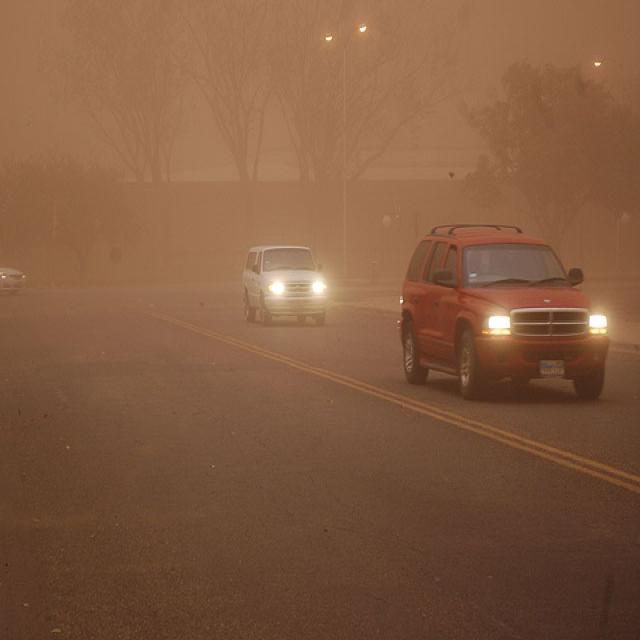car: (397, 222, 614, 402), (240, 244, 328, 327), (2, 251, 28, 297)
